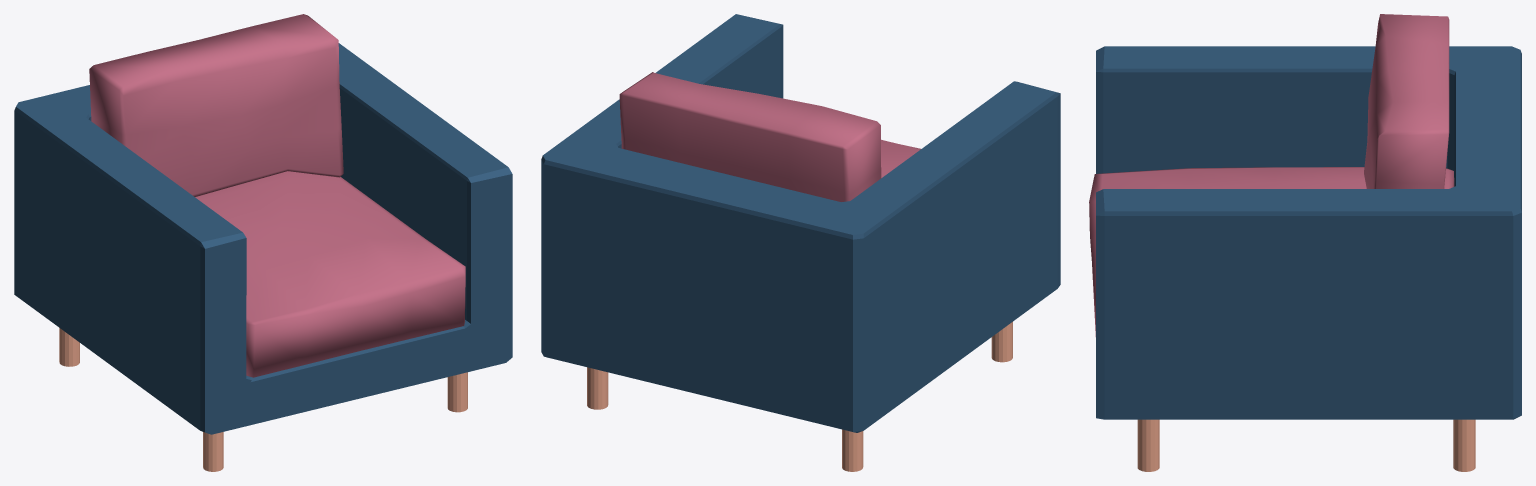
File: lazyboy.fbx
The picture shows the model from 3 angles, left to right: view 1: azimuth 30°, elevation 25°; view 2: azimuth 150°, elevation 25°; view 3: azimuth 270°, elevation 25°; orthographic projection. The views are drawn at different scales.
Parts seen in each view (by area): view 1: LazyBoy; view 2: LazyBoy; view 3: LazyBoy.
Boxes of the visible parts, x1,y1,x2,y2 form: LazyBoy: [14, 14, 512, 471]; LazyBoy: [541, 14, 1060, 471]; LazyBoy: [1089, 14, 1521, 471].
Size of the model in its own units: 89.4 by 84.11 by 98.53.
1 material, 1 textured.
